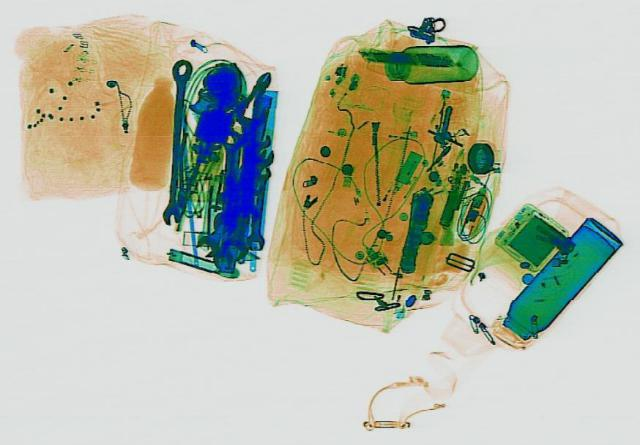Pliers: (232, 70, 274, 119)
Wrench: (160, 58, 192, 223), (186, 198, 254, 257), (241, 168, 271, 247), (216, 207, 258, 262)
